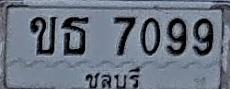0: (140, 17, 160, 55)
7: (114, 16, 136, 56)
9: (192, 18, 214, 56), (166, 17, 186, 55)
A02: (30, 16, 57, 55)
A24: (61, 16, 89, 55)
CBI: (84, 66, 144, 89)
